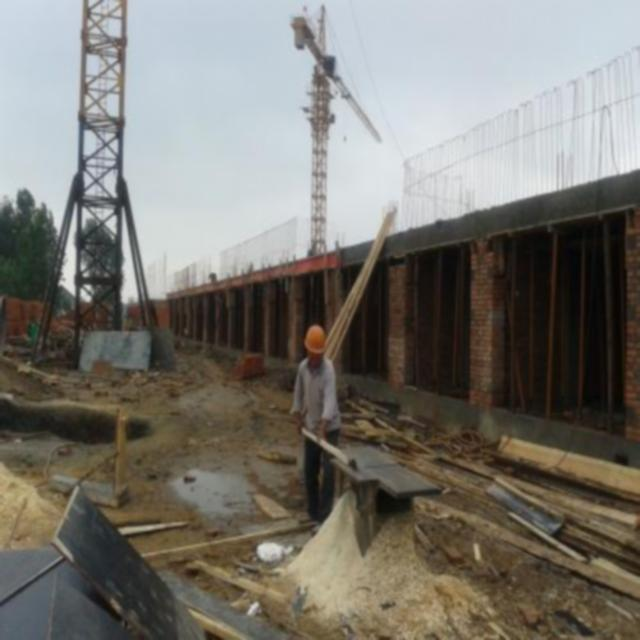head: (301, 323, 326, 372)
